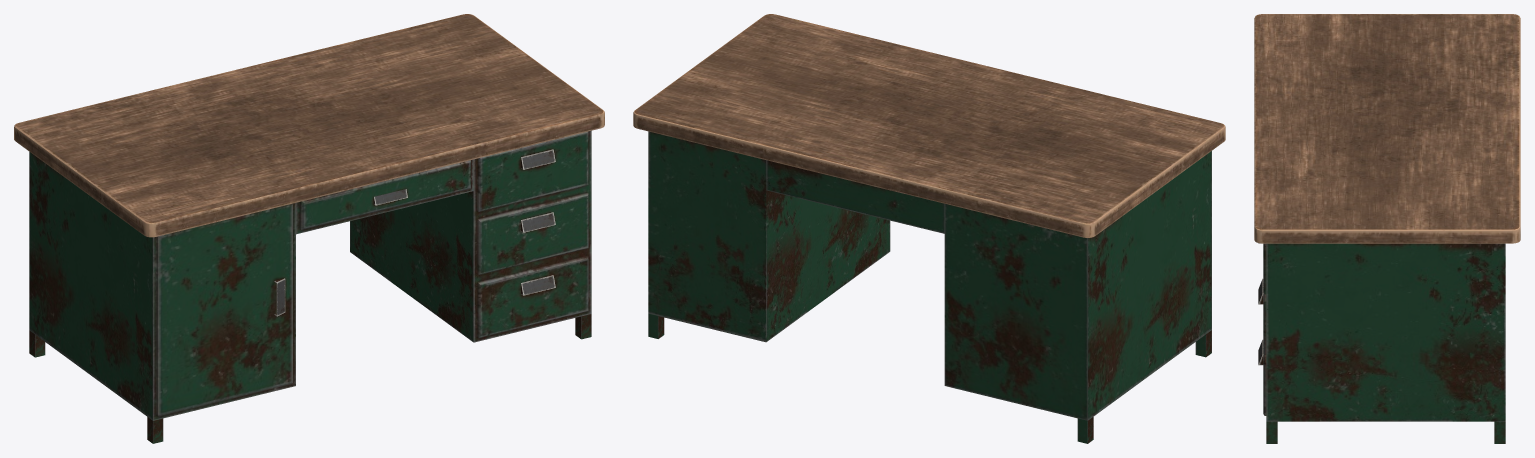
The model's file is Stol_1.fbx.
3 views of the same model, side by side, from view 1: azimuth 30°, elevation 25°; view 2: azimuth 150°, elevation 25°; view 3: azimuth 270°, elevation 25° (orthographic). The views are drawn at different scales.
Parts seen in each view (by area): view 1: HANDEAL; view 2: HANDEAL; view 3: HANDEAL.
Boxes of the visible parts, x1=… form: HANDEAL: x1=14, y1=14, x2=604, y2=443; HANDEAL: x1=633, y1=14, x2=1225, y2=443; HANDEAL: x1=1254, y1=14, x2=1520, y2=443.
Bounding box in the file's own units: 200 × 94.01 × 104.
1 material, 1 textured.
